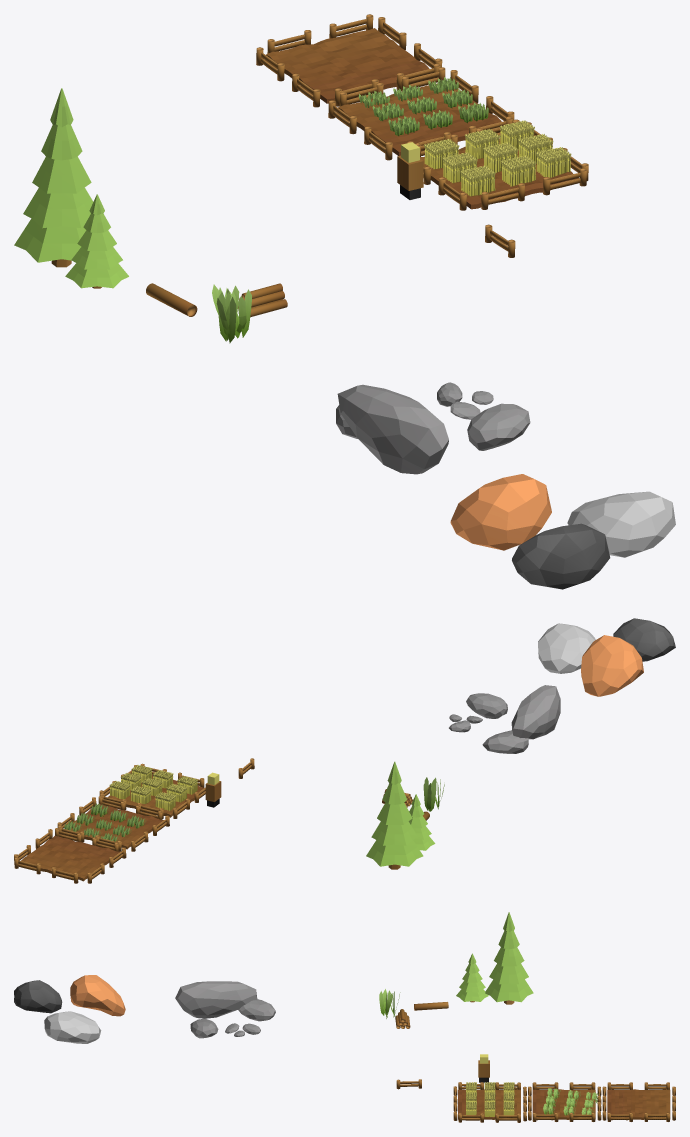
Rendered from Low poly asset.fbx.
The picture shows the model from 3 angles, top to bottom: view 1: azimuth 30°, elevation 25°; view 2: azimuth 150°, elevation 25°; view 3: azimuth 270°, elevation 25°; orthographic projection. The views are drawn at different scales.
Parts seen in each view (by area): view 1: Pine tree tall, wheat, Rock big, Soil, Copper, Coal, Iron, soil.001, wheat green, fence.001, Pine tree small, Cylinder.010 (+6 smaller); view 2: Pine tree tall, Copper, wheat, Soil, Iron, Rock big, Coal, soil.001, fence.001, wheat green, Cylinder.010, Rock mediuem 2 (+6 smaller); view 3: Rock big, Pine tree tall, Soil, Copper, Iron, Coal, soil.001, wheat, Cylinder.010, fence.001, soil, fence.002 (+5 smaller).
Part boxes in pixels (left/top/right/bottom): Pine tree tall: left=14, top=88, right=93, bottom=267; wheat: left=424, top=120, right=571, bottom=196; Rock big: left=337, top=384, right=448, bottom=474; Soil: left=266, top=28, right=429, bottom=103; Copper: left=450, top=474, right=551, bottom=550; Coal: left=512, top=523, right=610, bottom=589; Iron: left=567, top=491, right=675, bottom=557; soil.001: left=338, top=83, right=501, bottom=155; wheat green: left=358, top=77, right=488, bottom=136; fence.001: left=256, top=14, right=442, bottom=107; Pine tree small: left=65, top=194, right=128, bottom=288; Cylinder.010: left=328, top=67, right=514, bottom=160; Pine tree tall: left=366, top=761, right=423, bottom=869; Copper: left=581, top=635, right=643, bottom=696; wheat: left=109, top=765, right=197, bottom=810; Soil: left=18, top=836, right=119, bottom=881; Iron: left=538, top=623, right=595, bottom=673; Rock big: left=511, top=685, right=560, bottom=739; Coal: left=613, top=618, right=675, bottom=661; soil.001: left=67, top=804, right=163, bottom=849; fence.001: left=14, top=828, right=126, bottom=883; wheat green: left=64, top=803, right=146, bottom=841; Cylinder.010: left=57, top=796, right=169, bottom=851; Rock mediuem 2: left=466, top=693, right=507, bottom=718; Rock big: left=175, top=981, right=257, bottom=1018; Pine tree tall: left=485, top=912, right=533, bottom=1004; Soil: left=607, top=1089, right=670, bottom=1120; Copper: left=70, top=975, right=125, bottom=1016; Iron: left=44, top=1011, right=101, bottom=1043; Coal: left=14, top=980, right=62, bottom=1013; soil.001: left=532, top=1089, right=595, bottom=1120; wheat: left=466, top=1082, right=514, bottom=1116; Cylinder.010: left=528, top=1082, right=601, bottom=1121; fence.001: left=602, top=1082, right=675, bottom=1121; soil: left=458, top=1089, right=520, bottom=1119; fence.002: left=453, top=1082, right=526, bottom=1122.
Size of the model in its own units: 1433 by 481 by 3084.
